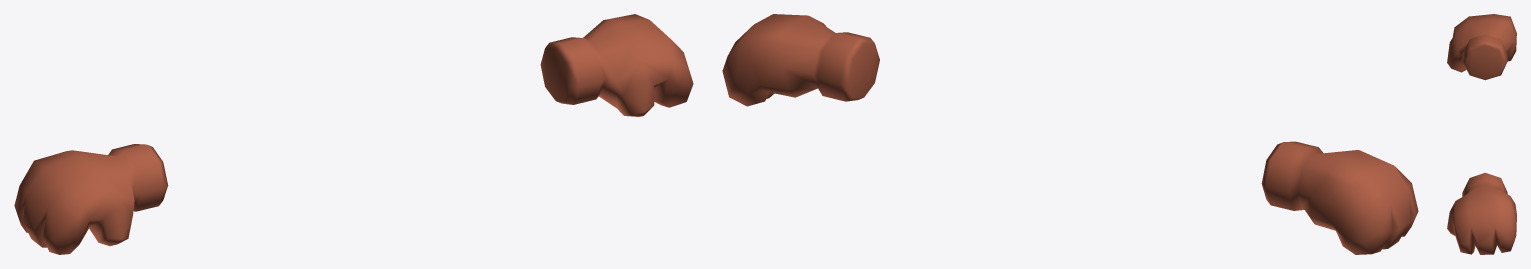
Rendered from Glove_14.fbx.
3 views of the same model, side by side, from view 1: azimuth 30°, elevation 25°; view 2: azimuth 150°, elevation 25°; view 3: azimuth 270°, elevation 25° (orthographic). The views are drawn at different scales.
Parts seen in each view (by area): view 1: Glove_14; view 2: Glove_14; view 3: Glove_14.
Part boxes in pixels (<box>): Glove_14: <box>14,14,693,254</box>; Glove_14: <box>722,14,1418,254</box>; Glove_14: <box>1447,14,1516,254</box>.
Size of the model in its own units: 132 by 15.73 by 18.87.
